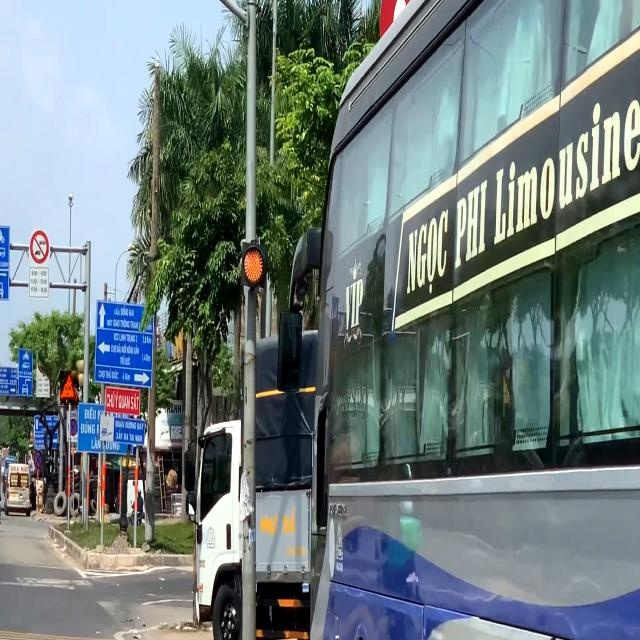bien_chi_dan: (60, 372, 79, 406)
